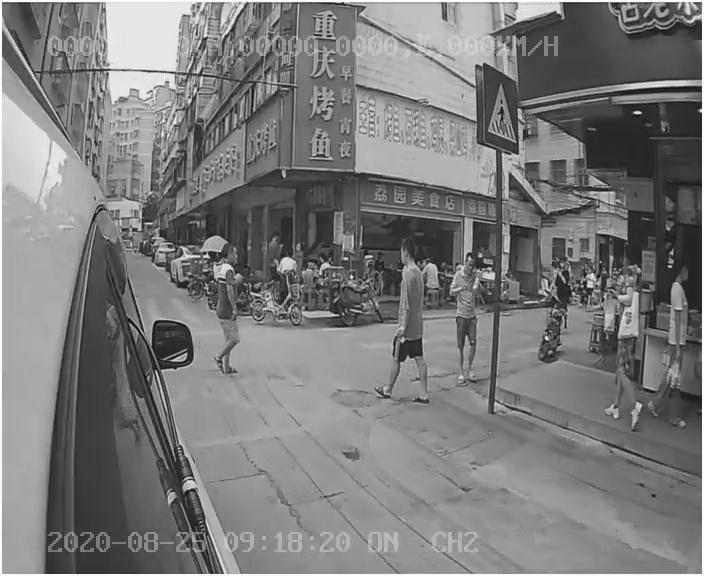person: (204, 243, 263, 383)
